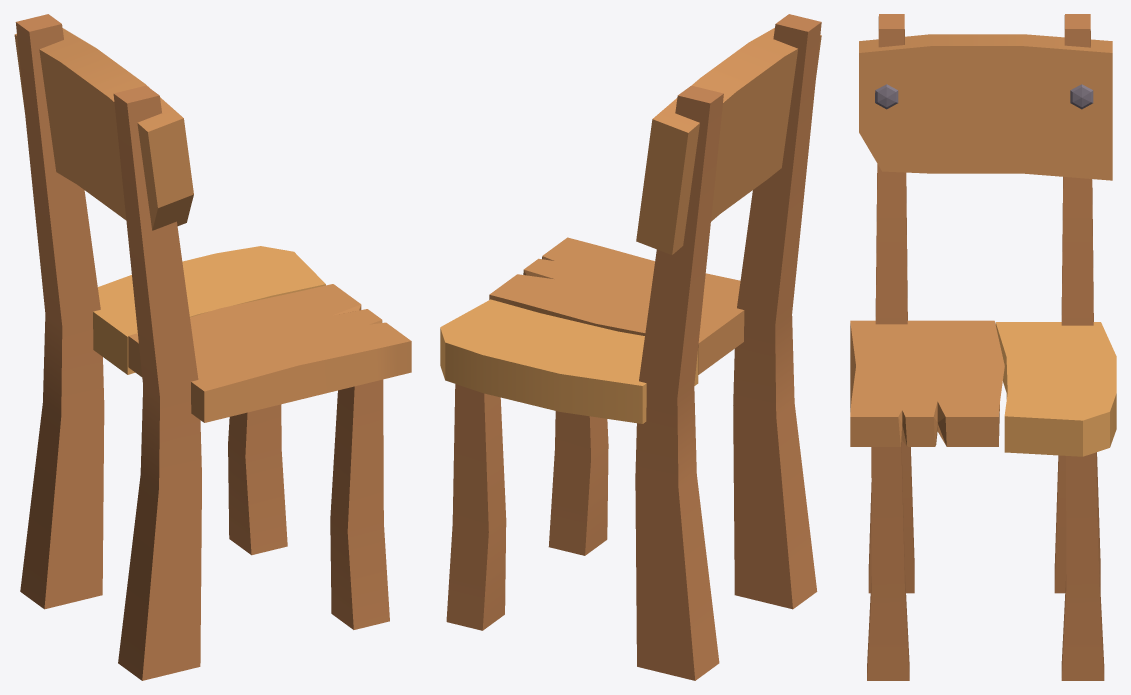
Rendered from chair.fbx.
The picture shows the model from 3 angles, left to right: view 1: azimuth 30°, elevation 25°; view 2: azimuth 150°, elevation 25°; view 3: azimuth 270°, elevation 25°; orthographic projection. The views are drawn at different scales.
Parts seen in each view (by area): view 1: pSphere33; view 2: pSphere33; view 3: pSphere33.
Part boxes in pixels (left/top/right/bottom): pSphere33: left=14, top=14, right=411, bottom=680; pSphere33: left=440, top=14, right=821, bottom=680; pSphere33: left=850, top=14, right=1116, bottom=680.
Bounding box in the file's own units: 0.5339 × 1.07 × 0.4726.
